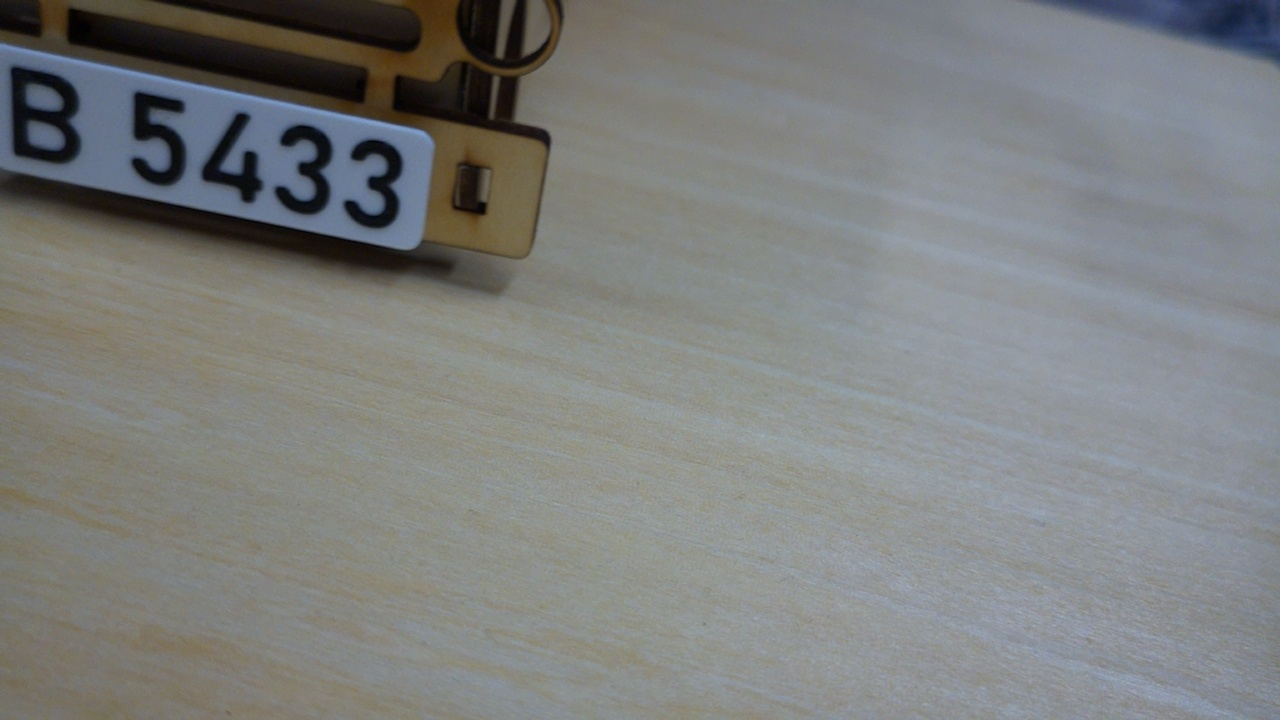license_plate: (0, 34, 438, 257)
